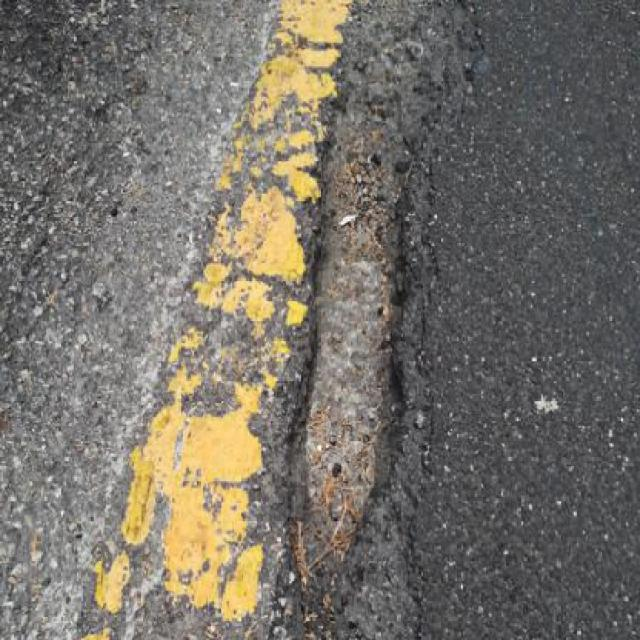Pothole: (296, 50, 415, 632)
